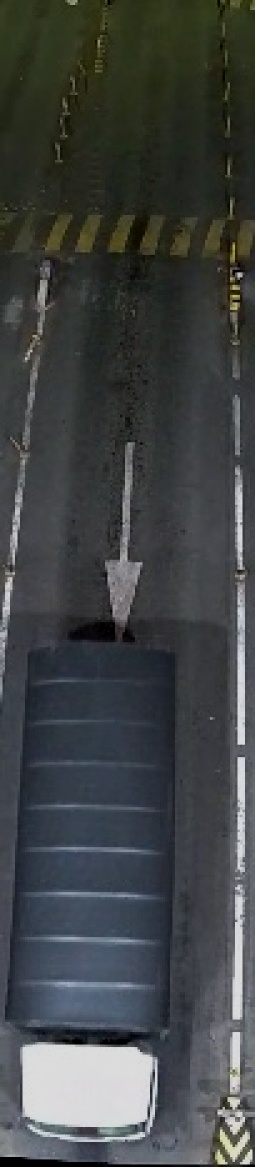truck: (4, 626, 193, 1154)
